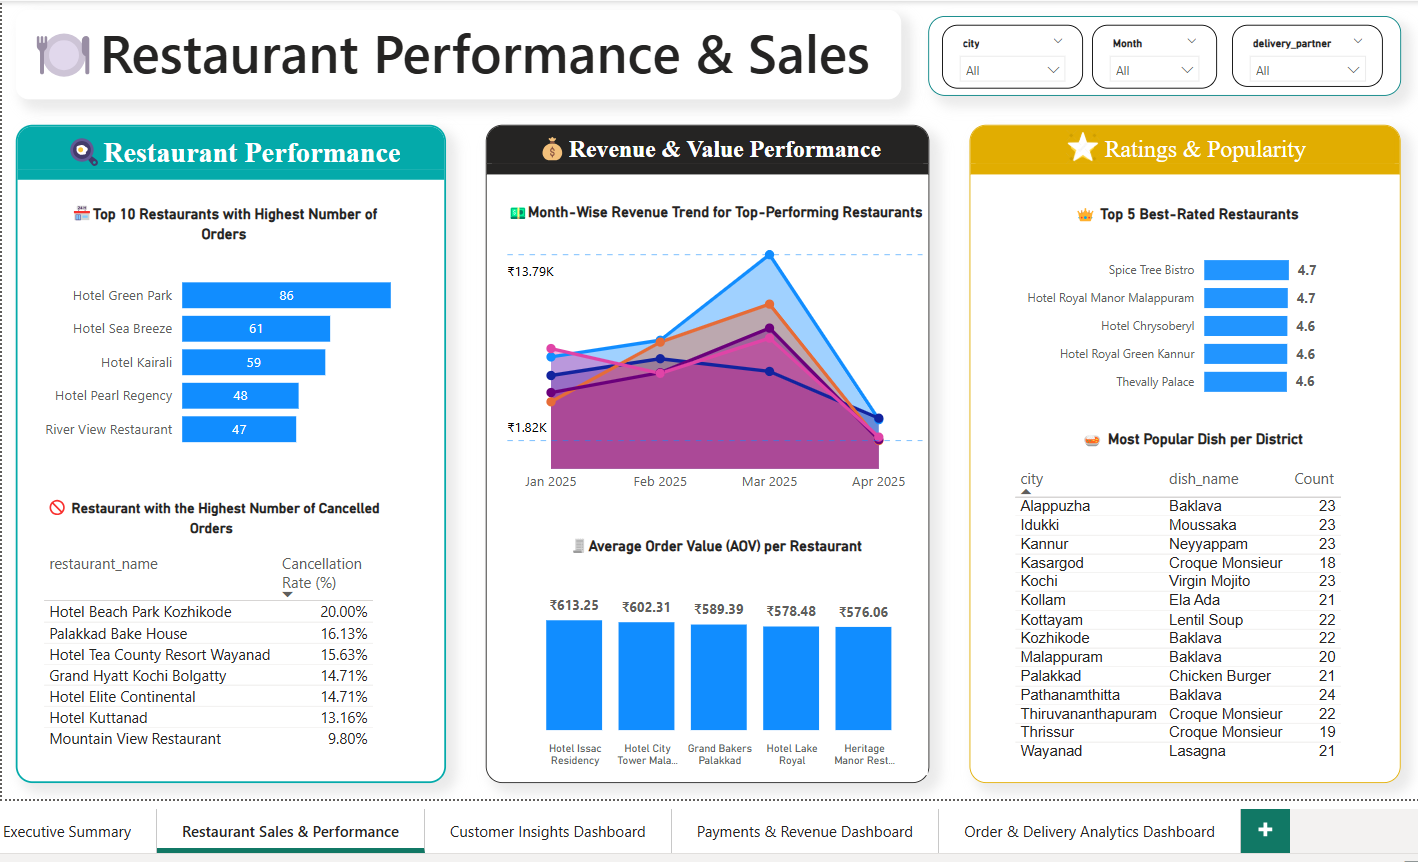

The dashboard page shown, as its layout file describes it:
{"tool":"powerbi","page":{"name":"Restaurant Sales & Performance","canvas":[1280,720],"ordinal":1},"visuals":[{"type":"shape","box":[835.2,13.5,426.1,72.1],"z":0},{"type":"shape","title":"💰Revenue & Value Performance","box":[436.2,111.6,400.1,594],"z":1000},{"type":"shape","title":"⭐ Ratings & Popularity","box":[872.4,111.6,388.9,594],"z":2000},{"type":"shape","title":"🍳Restaurant Performance","box":[12.4,111.6,387.7,594],"z":3000},{"type":"textbox","title":"🍽️Restaurant Performance & Sales","box":[12.4,7.9,798,81.2],"z":4000},{"type":"clusteredBarChart","title":"Top 5 Restaurants with Highest Number of Orders","fields":{"Category":["public restaurants.restaurant_name"],"Y":["CountNonNull(public orders.order_id)"]},"box":[23.7,228.8,353.9,187.1],"z":5000},{"type":"tableEx","title":"Restaurant with the Highest Number of Cancelled Orders","fields":{"Values":["public restaurants.restaurant_name","DAX Table.Cancellation Rate (%)"]},"box":[31.6,492.6,342.6,196.1],"z":6000},{"type":"textbox","box":[31.6,441.8,314.5,50.7],"z":7000},{"type":"textbox","box":[44,175.8,312.2,51.8],"z":8000},{"type":"barChart","title":"Top 5 Restaurants with Highest Number of Orders","fields":{"Category":["public restaurants.restaurant_name"],"Y":["DAX Table.Average Rating"]},"box":[907.3,210.8,338.1,157.8],"z":9000},{"type":"tableEx","title":"Restaurant with the Highest Number of Cancelled Orders","fields":{"Values":["TopDishPerCity.city","TopDishPerCity.dish_name","Sum(TopDishPerCity.DishCount)"]},"box":[907.3,415.9,338.1,281.8],"z":10000},{"type":"textbox","box":[920.9,378.7,304.3,37.2],"z":11000},{"type":"textbox","box":[941.1,175.8,253.6,51.8],"z":12000},{"type":"lineChart","fields":{"Series":["public restaurants.restaurant_name"],"Y":["DAX Table.Total Revenue"],"Category":["public orders.Month_Year"]},"box":[450.8,210.8,384.3,241.2],"z":13000},{"type":"columnChart","fields":{"Category":["public restaurants.restaurant_name"],"Y":["DAX Table.Average Order Value"]},"box":[450.8,519.6,384.3,178.1],"z":14000},{"type":"textbox","box":[450.8,476.8,384.3,32.7],"z":15000},{"type":"textbox","box":[450.8,175.8,384.3,34.9],"z":16000},{"type":"image","box":[954.7,111.6,40.6,40.6],"z":17000},{"type":"slicer","fields":{"Values":["public orders.order_datetime.Variation.Date Hierarchy.Month"]},"box":[982.8,21.4,112.7,57.5],"z":18000},{"type":"slicer","fields":{"Values":["public customers.city"]},"box":[847.6,21.4,127.4,57.5],"z":19000},{"type":"slicer","fields":{"Values":["public delivery.delivery_partner"]},"box":[1109.1,21.4,136.4,56.4],"z":20000}]}

Visuals, with their boxes on the page's 1280x720 design canvas (x1, y1, x2, y2). These are canvas units, not pixel positions in the 1418x862 screenshot, which may show the page scaled, cropped or inside an application window:
shape: 835,14,1261,86
"💰Revenue & Value Performance" shape: 436,112,836,706
"⭐ Ratings & Popularity" shape: 872,112,1261,706
"🍳Restaurant Performance" shape: 12,112,400,706
"🍽️Restaurant Performance & Sales" textbox: 12,8,810,89
"Top 5 Restaurants with Highest Number of Orders" clusteredBarChart: 24,229,378,416
"Restaurant with the Highest Number of Cancelled Orders" tableEx: 32,493,374,689
textbox: 32,442,346,492
textbox: 44,176,356,228
"Top 5 Restaurants with Highest Number of Orders" barChart: 907,211,1245,369
"Restaurant with the Highest Number of Cancelled Orders" tableEx: 907,416,1245,698
textbox: 921,379,1225,416
textbox: 941,176,1195,228
lineChart - public restaurants.restaurant_name x DAX Table.Total Revenue: 451,211,835,452
columnChart - public restaurants.restaurant_name x DAX Table.Average Order Value: 451,520,835,698
textbox: 451,477,835,510
textbox: 451,176,835,211
image: 955,112,995,152
slicer - public orders.order_datetime.Variation.Date Hierarchy.Month: 983,21,1096,79
slicer - public customers.city: 848,21,975,79
slicer - public delivery.delivery_partner: 1109,21,1246,78
